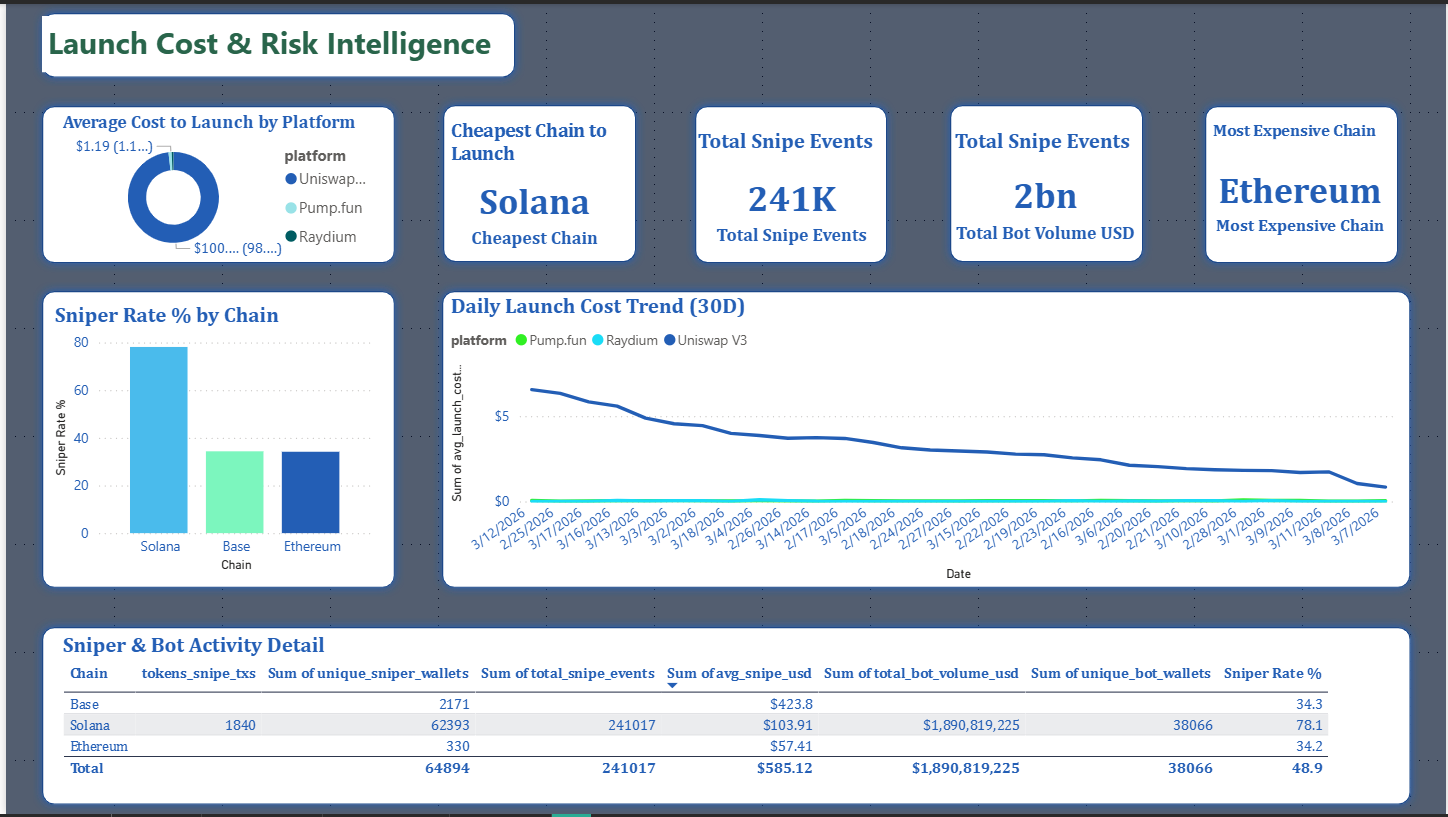

This screenshot's page, from the dashboard's own definition file:
{"tool":"powerbi","page":{"name":"Cost & Risk","canvas":[1280,720],"ordinal":3},"visuals":[{"type":"group","id":"g1","title":"Group 1","box":[23.8,0,1233.2,719.5],"z":0},{"type":"shape","box":[23.8,0,436.5,73.4],"z":0,"group":"g1"},{"type":"shape","box":[379.9,81.8,187.6,155.6],"z":1000,"group":"g1"},{"type":"card","title":"Cheapest Chain to Launch","fields":{"Values":["Survival_Rate.Cheapest Chain"]},"box":[389.9,101.9,159.3,123.7],"z":1000},{"type":"card","title":"Most Expensive Chain","fields":{"Values":["Survival_Rate.Most Expensive Chain"]},"box":[1067.9,102.9,165.3,122.7],"z":2000},{"type":"shape","box":[379.7,247.2,876.7,279.8],"z":2000,"group":"g1"},{"type":"card","title":"Total Snipe Events","fields":{"Values":["Survival_Rate.Total Snipe Events"]},"box":[609.6,109.9,177.2,119.8],"z":3000},{"type":"shape","box":[23.8,247.2,329.7,279.8],"z":3000,"group":"g1"},{"type":"card","title":"Total Snipe Events","fields":{"Values":["Survival_Rate.Total Bot Volume USD"]},"box":[838.3,109.9,171.2,115.8],"z":4000},{"type":"shape","box":[23.8,546.1,1232.6,173.9],"z":4000,"group":"g1"},{"type":"shape","box":[603.9,82.7,186.7,155.6],"z":5000,"group":"g1"},{"type":"donutChart","title":"Average Cost to Launch by Platform","fields":{"Category":["Average_Token_Launch_Cost.platform"],"Y":["Sum(Average_Token_Launch_Cost.avg_launch_cost_usd)"]},"box":[45.5,95,292,134.6],"z":5000},{"type":"shape","box":[830.5,81.8,187.6,155.6],"z":6000,"group":"g1"},{"type":"lineChart","title":"Daily Launch Cost Trend (30D)","fields":{"Y":["Sum(Average_Token_Launch_Cost.avg_launch_cost_usd)"],"Series":["Average_Token_Launch_Cost.platform"],"Category":["Average_Token_Launch_Cost.Date"]},"box":[389.9,257.3,851.1,260.3],"z":6000},{"type":"shape","box":[1057.2,82.7,187.6,155.6],"z":7000,"group":"g1"},{"type":"clusteredColumnChart","fields":{"Category":["DimChain.Chain"],"Y":["Survival_Rate.Sniper Rate %"]},"box":[38.6,265.2,292.9,244.5],"z":7000},{"type":"shape","box":[23.8,82.4,329.7,155.8],"z":8000,"group":"g1"},{"type":"tableEx","title":"Sniper & Bot Activity Detail","fields":{"Values":["DimChain.Chain","Sniped_Bot.tokens_snipe_txs","Sum(Sniped_Bot.unique_sniper_wallets)","Sum(Sniped_Bot.total_snipe_events)","Sum(Sniped_Bot.avg_snipe_usd)","Sum(Sniped_Bot.total_bot_volume_usd)","Sum(Sniped_Bot.unique_bot_wallets)","Survival_Rate.Sniper Rate %"]},"box":[45.5,558.2,1207.4,150.4],"z":8000},{"type":"textbox","box":[31.7,10.9,413.7,50.5],"z":9000}]}

Visuals, with their boxes in screenshot pixels (x1, y1, x2, y2), scaled from the page's 1280x720 canvas onto the 1448x817 screenshot:
"Group 1" group: <box>27,0,1422,816</box>
shape: <box>27,0,521,83</box>
shape: <box>430,93,642,269</box>
"Cheapest Chain to Launch" card: <box>441,116,621,256</box>
"Most Expensive Chain" card: <box>1208,117,1395,256</box>
shape: <box>430,281,1421,598</box>
"Total Snipe Events" card: <box>690,125,890,261</box>
shape: <box>27,281,400,598</box>
"Total Snipe Events" card: <box>948,125,1142,256</box>
shape: <box>27,620,1421,816</box>
shape: <box>683,94,894,270</box>
"Average Cost to Launch by Platform" donutChart: <box>51,108,382,261</box>
shape: <box>940,93,1152,269</box>
"Daily Launch Cost Trend (30D)" lineChart: <box>441,292,1404,587</box>
shape: <box>1196,94,1408,270</box>
clusteredColumnChart - DimChain.Chain x Survival_Rate.Sniper Rate %: <box>44,301,375,578</box>
shape: <box>27,94,400,270</box>
"Sniper & Bot Activity Detail" tableEx: <box>51,633,1417,804</box>
textbox: <box>36,12,504,70</box>
